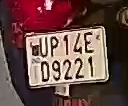1: (85, 55, 96, 78), (62, 35, 72, 55)
2: (73, 57, 86, 79), (61, 59, 74, 80)
4: (71, 33, 84, 57)
9: (50, 59, 64, 82)
D: (37, 58, 51, 84)
E: (81, 30, 95, 55)
P: (50, 36, 59, 57)
U: (37, 37, 50, 58)
